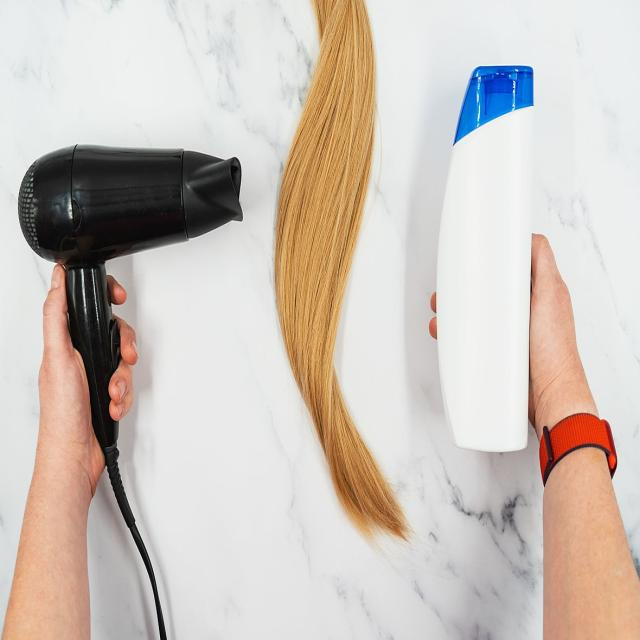dryer: (16, 141, 244, 523)
